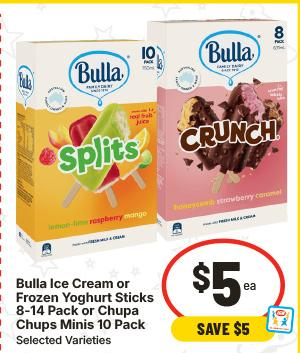description_block: (5, 268, 156, 337)
price_main: (171, 243, 279, 316)
product_image_block: (10, 10, 291, 250)
promo_text_block: (163, 315, 283, 343)
